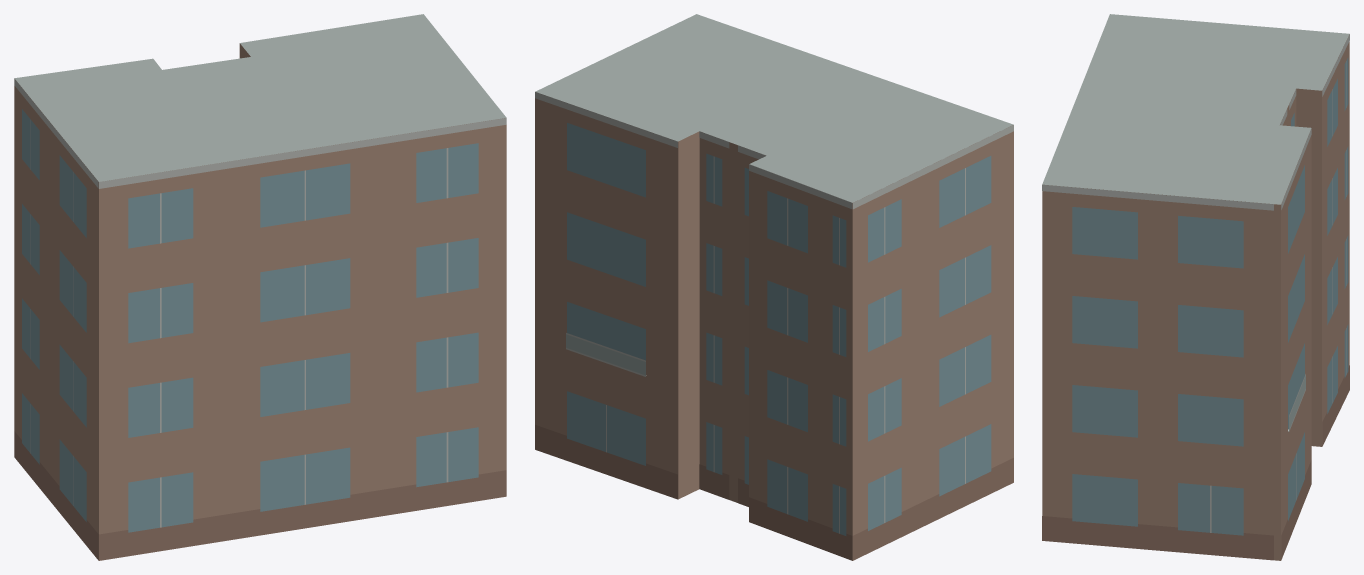
The model's file is survey-upis-32909850.glb.
3 renders of one model, left to right at view 1: azimuth 30°, elevation 25°; view 2: azimuth 150°, elevation 25°; view 3: azimuth 270°, elevation 25°, orthographic. The views are drawn at different scales.
Visible parts, largest first — view 1: survey-upis-32909850.tmp; view 2: survey-upis-32909850.tmp; view 3: survey-upis-32909850.tmp.
Boxes of the visible parts, <box> form: survey-upis-32909850.tmp: <box>14,14,506,560</box>; survey-upis-32909850.tmp: <box>535,14,1013,560</box>; survey-upis-32909850.tmp: <box>1042,14,1349,560</box>.
Bounding box in the file's own units: 15.23 × 13.26 × 10.39.
